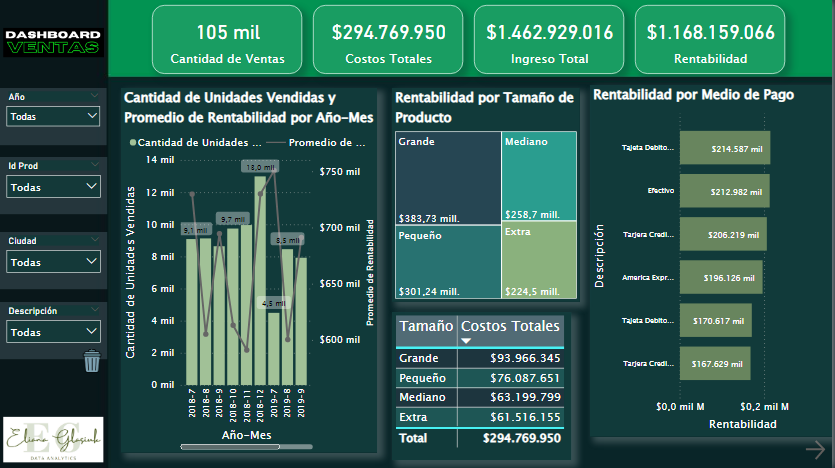

The page's visual inventory and layout, read from the dashboard file:
{"tool":"powerbi","page":{"name":"Principal","canvas":[1280,720],"ordinal":0},"visuals":[{"type":"card","fields":{"Values":["Sum(Ventas.Cantidad )"]},"box":[233.9,7.1,231,106.3],"z":0},{"type":"slicer","fields":{"Values":["Ventas.Id Prod"]},"box":[0,241.7,165,88.3],"z":1000},{"type":"lineStackedColumnComboChart","fields":{"Y":["Sum(Ventas.Cantidad de Unidades Vendidas)"],"Y2":["Avg(Ventas.Rentabilidad)"],"Category":["Calendario.Año-Mes"]},"box":[185.7,136.1,394,561.3],"z":2000},{"type":"slicer","fields":{"Values":["Territorio.Ciudad"]},"box":[0,356.7,165,88.3],"z":3000},{"type":"slicer","fields":{"Values":["MediodePago.Descripción"]},"box":[0,465,165,88.3],"z":4000},{"type":"card","fields":{"Values":["Sum(Ventas.Ganancias)"]},"box":[976.5,7.1,231,106.3],"z":5000},{"type":"card","fields":{"Values":["Sum(Ventas.Costos Totales)"]},"box":[481.9,7.1,231,106.3],"z":6000},{"type":"card","fields":{"Values":["Sum(Ventas.Ingreso Total)"]},"box":[728.5,7.1,231,106.3],"z":7000},{"type":"treemap","title":"Rentabilidad por Tamaño de Producto","fields":{"Values":["Sum(Ventas.Ganancias)"],"Group":["Producto.Tamaño "]},"box":[602.4,136.1,289.1,328.8],"z":8000},{"type":"tableEx","fields":{"Values":["Producto.Tamaño ","Sum(Ventas.Costos Totales)"]},"box":[602.4,480.5,276.4,228.2],"z":9000},{"type":"actionButton","box":[1234.5,671.8,45.4,39.7],"z":10000},{"type":"barChart","title":"Rentabilidad por Medio de Pago","fields":{"Category":["MediodePago.Descripción"],"Y":["Sum(Ventas.Rentabilidad)"]},"box":[907.1,130.4,372.8,541.4],"z":11000},{"type":"slicer","fields":{"Values":["Calendario.Año"]},"box":[0,136.1,164.4,87.9],"z":12000},{"type":"image","box":[0,632.9,164.3,87.1],"z":13000},{"type":"image","box":[0,0,165,130],"z":14000},{"type":"image","box":[118.6,528.6,45.7,51.4],"z":15000}]}

Visuals, with their boxes in screenshot pixels (x1, y1, x2, y2), scaled from the page's 1280x720 canvas onto the 835x468 screenshot:
card - Sum(Ventas.Cantidad ): (153, 5, 303, 74)
slicer - Ventas.Id Prod: (0, 157, 108, 214)
lineStackedColumnComboChart - Sum(Ventas.Cantidad de Unidades Vendidas) x Avg(Ventas.Rentabilidad): (121, 88, 378, 453)
slicer - Territorio.Ciudad: (0, 232, 108, 289)
slicer - MediodePago.Descripción: (0, 302, 108, 360)
card - Sum(Ventas.Ganancias): (637, 5, 788, 74)
card - Sum(Ventas.Costos Totales): (314, 5, 465, 74)
card - Sum(Ventas.Ingreso Total): (475, 5, 626, 74)
"Rentabilidad por Tamaño de Producto" treemap: (393, 88, 582, 302)
tableEx - Producto.Tamaño  x Sum(Ventas.Costos Totales): (393, 312, 573, 461)
actionButton: (805, 437, 834, 462)
"Rentabilidad por Medio de Pago" barChart: (592, 85, 834, 437)
slicer - Calendario.Año: (0, 88, 107, 146)
image: (0, 411, 107, 467)
image: (0, 0, 108, 84)
image: (77, 344, 107, 377)
